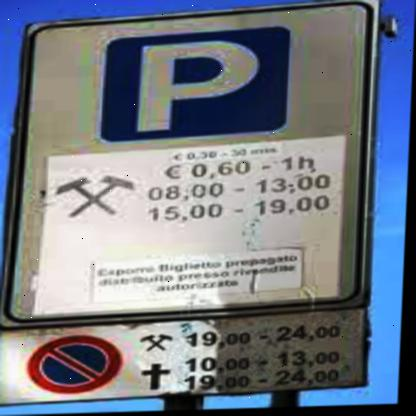Parking: (91, 25, 308, 147)
